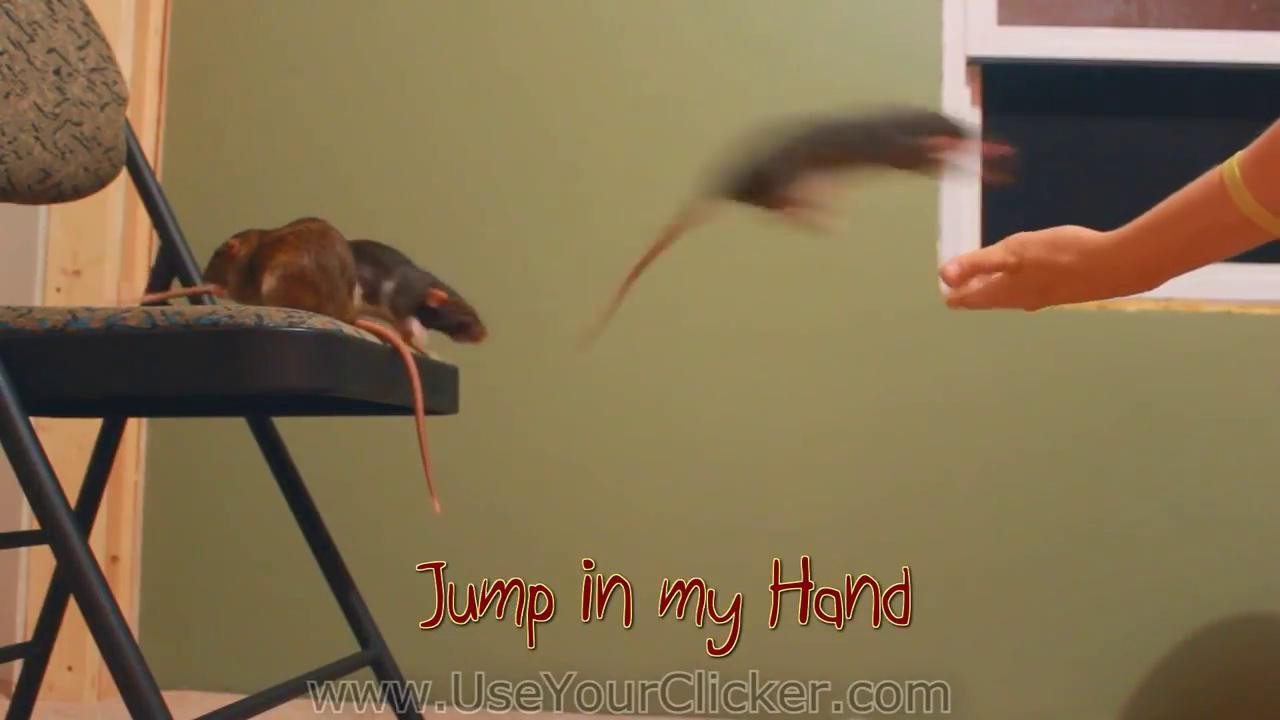rat: (589, 103, 1014, 347), (203, 216, 442, 512), (348, 239, 489, 351)
